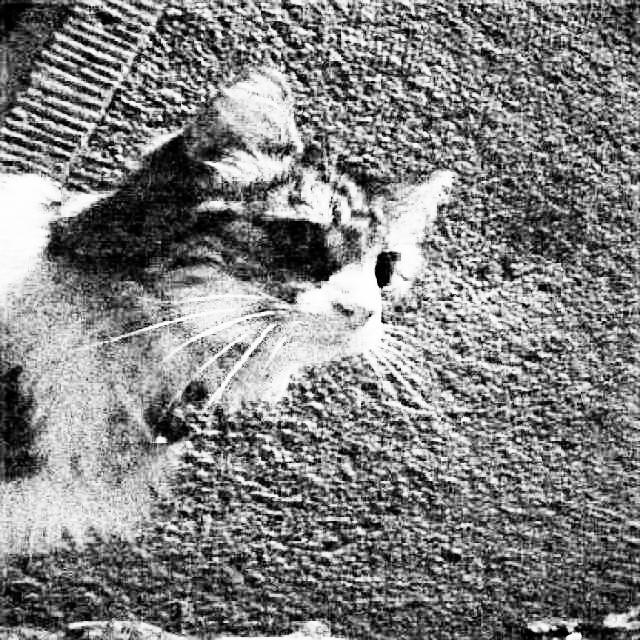Cat: (0, 72, 469, 557)
